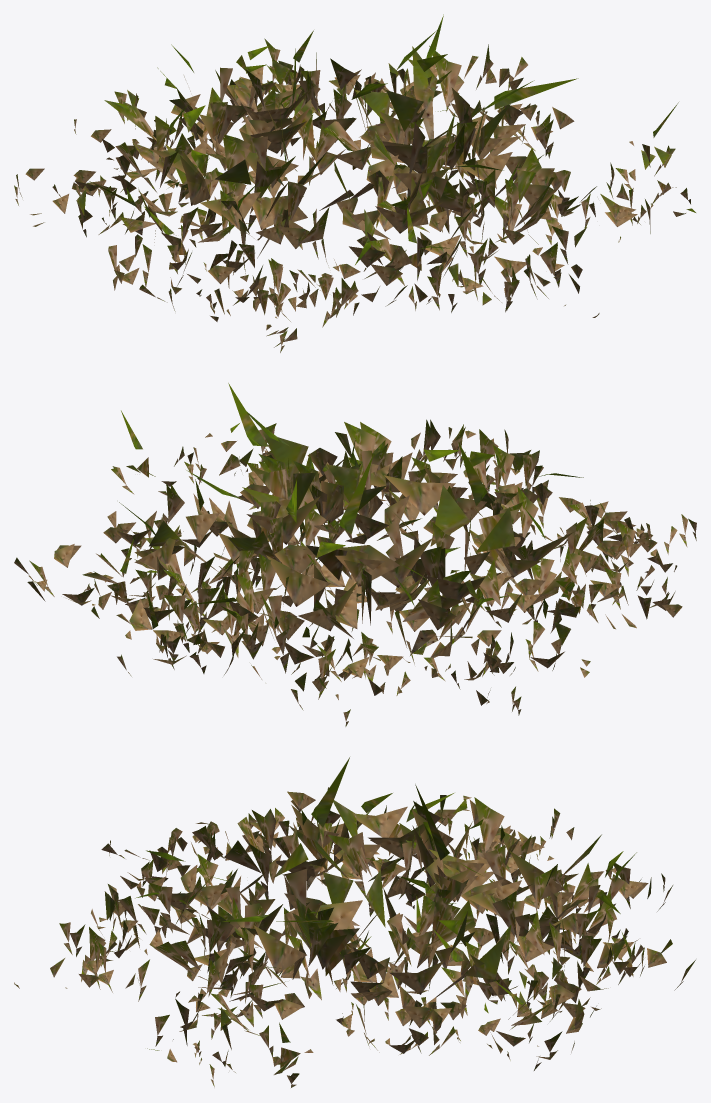
The model's file is MT_PM_V60_Cynodon_dactylon_01_01_collision.dae.
The picture shows the model from 3 angles, top to bottom: view 1: azimuth 30°, elevation 25°; view 2: azimuth 150°, elevation 25°; view 3: azimuth 270°, elevation 25°; orthographic projection.
Visible parts, largest first — view 1: MT_PM_V60_Cynodon_dactylon_01_01; view 2: MT_PM_V60_Cynodon_dactylon_01_01; view 3: MT_PM_V60_Cynodon_dactylon_01_01.
Part boxes in pixels (x1,y1,x2,y2): MT_PM_V60_Cynodon_dactylon_01_01: (14,14,695,352); MT_PM_V60_Cynodon_dactylon_01_01: (14,383,696,726); MT_PM_V60_Cynodon_dactylon_01_01: (14,757,695,1087).
Bounding box in the file's own units: 0.2926 × 0.3057 × 0.0809.
